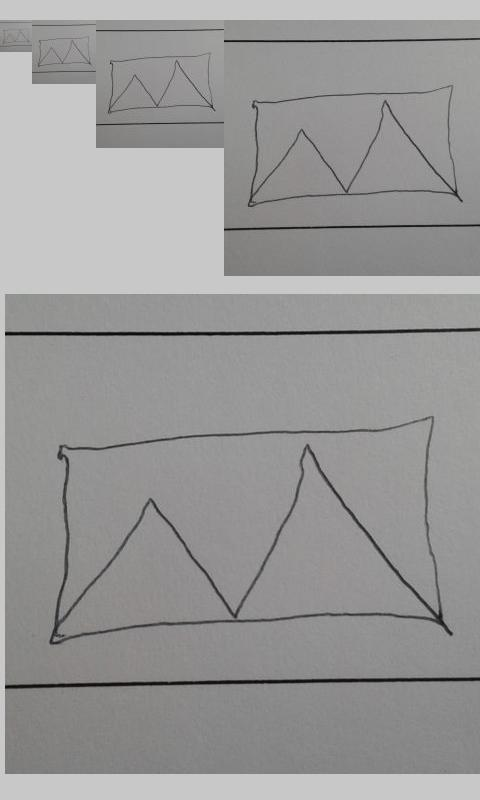image_view: (51, 417, 450, 644), (247, 83, 459, 206), (106, 53, 214, 113), (37, 35, 91, 67), (2, 28, 30, 44)
